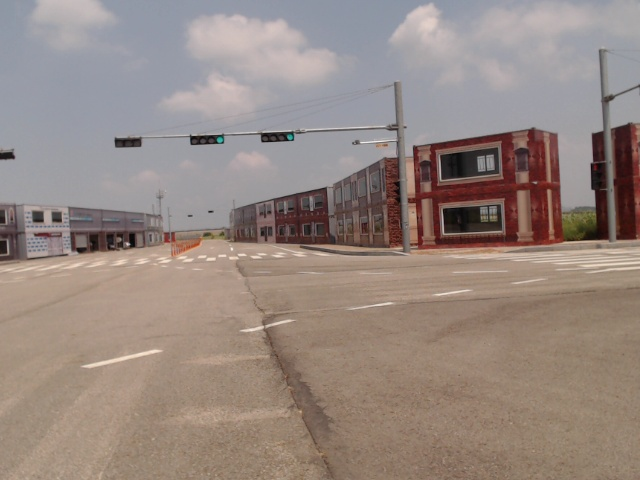straight_green_4: (190, 133, 224, 145), (261, 131, 294, 143)
